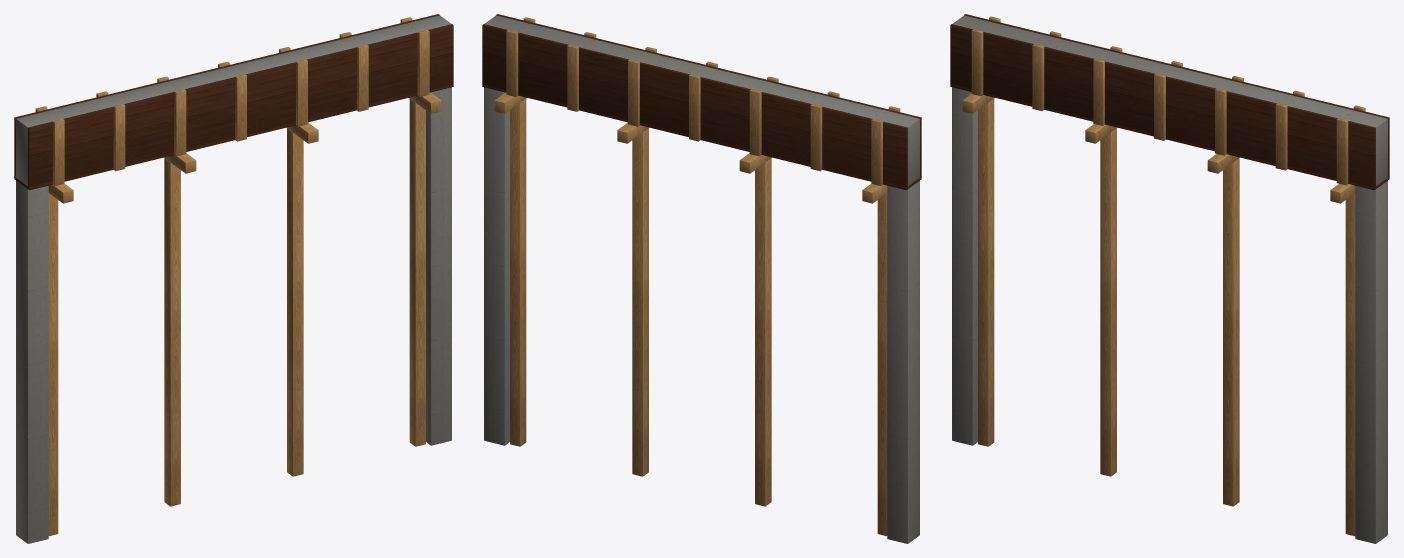
File: KIT-EST-02_lod1.glb
3 renders of one model, left to right at view 1: azimuth 30°, elevation 25°; view 2: azimuth 150°, elevation 25°; view 3: azimuth 330°, elevation 25°, orthographic.
Visible parts, largest first — view 1: KIT-EST-02_lat, KIT-EST-02_pilar, KIT-EST-02_pilar.001, KIT-EST-02_viga, KIT-EST-02_pont.001, KIT-EST-02_pont.003, KIT-EST-02_pont.002, KIT-EST-02_pont, KIT-EST-02_lat.001, KIT-EST-02_fundo, KIT-EST-02_sar.004, KIT-EST-02_sar.012 (+5 smaller); view 2: KIT-EST-02_lat.001, KIT-EST-02_pilar, KIT-EST-02_pilar.001, KIT-EST-02_viga, KIT-EST-02_pont.003, KIT-EST-02_pont.001, KIT-EST-02_pont.002, KIT-EST-02_pont, KIT-EST-02_lat, KIT-EST-02_fundo, KIT-EST-02_sar.005, KIT-EST-02_sar.013 (+5 smaller); view 3: KIT-EST-02_lat, KIT-EST-02_pilar.001, KIT-EST-02_pilar, KIT-EST-02_viga, KIT-EST-02_pont, KIT-EST-02_pont.002, KIT-EST-02_pont.001, KIT-EST-02_pont.003, KIT-EST-02_lat.001, KIT-EST-02_fundo, KIT-EST-02_sar.012, KIT-EST-02_sar (+5 smaller).
Boxes of the visible parts, box(x1,y1,x2,y2) form: KIT-EST-02_lat: box(28, 24, 453, 189); KIT-EST-02_pilar: box(16, 180, 48, 543); KIT-EST-02_pilar.001: box(426, 87, 451, 445); KIT-EST-02_viga: box(16, 15, 451, 185); KIT-EST-02_pont.001: box(164, 158, 180, 506); KIT-EST-02_pont.003: box(409, 98, 425, 446); KIT-EST-02_pont.002: box(287, 128, 303, 476); KIT-EST-02_pont: box(48, 193, 58, 536); KIT-EST-02_lat.001: box(14, 14, 439, 177); KIT-EST-02_fundo: box(14, 84, 453, 189); KIT-EST-02_sar.004: box(174, 89, 186, 156); KIT-EST-02_sar.012: box(417, 29, 429, 96); KIT-EST-02_lat.001: box(482, 24, 907, 190); KIT-EST-02_pilar: box(887, 180, 919, 543); KIT-EST-02_pilar.001: box(484, 87, 509, 445); KIT-EST-02_viga: box(484, 15, 919, 185); KIT-EST-02_pont.003: box(510, 98, 526, 446); KIT-EST-02_pont.001: box(755, 158, 771, 506); KIT-EST-02_pont.002: box(632, 128, 648, 476); KIT-EST-02_pont: box(877, 193, 887, 536); KIT-EST-02_lat: box(496, 14, 921, 177); KIT-EST-02_fundo: box(482, 84, 921, 189); KIT-EST-02_sar.005: box(749, 89, 761, 156); KIT-EST-02_sar.013: box(506, 29, 518, 96); KIT-EST-02_lat: box(950, 24, 1375, 189); KIT-EST-02_pilar.001: box(1355, 180, 1387, 543); KIT-EST-02_pilar: box(952, 87, 977, 445); KIT-EST-02_viga: box(952, 15, 1387, 185); KIT-EST-02_pont: box(978, 98, 994, 446); KIT-EST-02_pont.002: box(1223, 158, 1239, 506); KIT-EST-02_pont.001: box(1100, 128, 1116, 476); KIT-EST-02_pont.003: box(1345, 193, 1355, 536); KIT-EST-02_lat.001: box(964, 14, 1389, 178); KIT-EST-02_fundo: box(950, 84, 1389, 189); KIT-EST-02_sar.012: box(1336, 118, 1348, 185); KIT-EST-02_sar: box(971, 29, 983, 96).
Bounding box in the file's own units: 3 × 2.83 × 0.45.
Materials: 4 (4 with a texture image).
